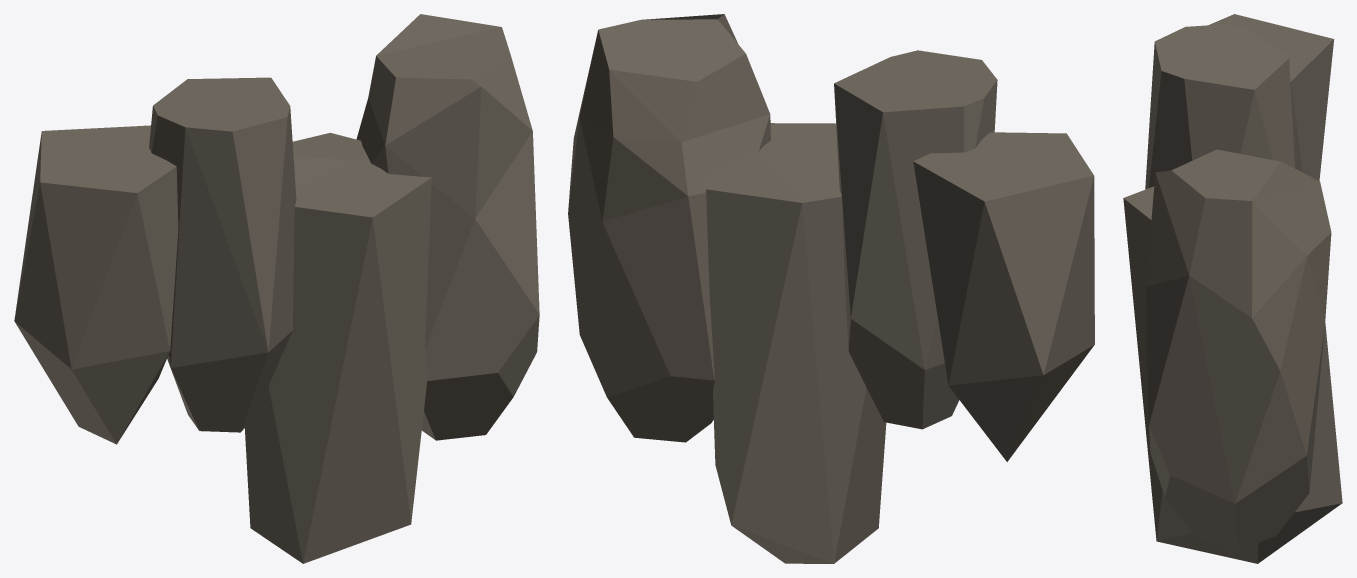
The model's file is Rocks.glb.
The picture shows the model from 3 angles, left to right: view 1: azimuth 30°, elevation 25°; view 2: azimuth 150°, elevation 25°; view 3: azimuth 270°, elevation 25°; orthographic projection. The views are drawn at different scales.
Parts seen in each view (by area): view 1: Rock_Cliff_Env_03.010; view 2: Rock_Cliff_Env_03.010; view 3: Rock_Cliff_Env_03.010.
Part boxes in pixels (box(x1,y1,x2,y2)): Rock_Cliff_Env_03.010: box(14, 14, 539, 563); Rock_Cliff_Env_03.010: box(568, 14, 1094, 563); Rock_Cliff_Env_03.010: box(1123, 14, 1342, 563).
Size of the model in its own units: 17.85 by 16.61 by 7.19.
Materials: 1 (1 with a texture image).
